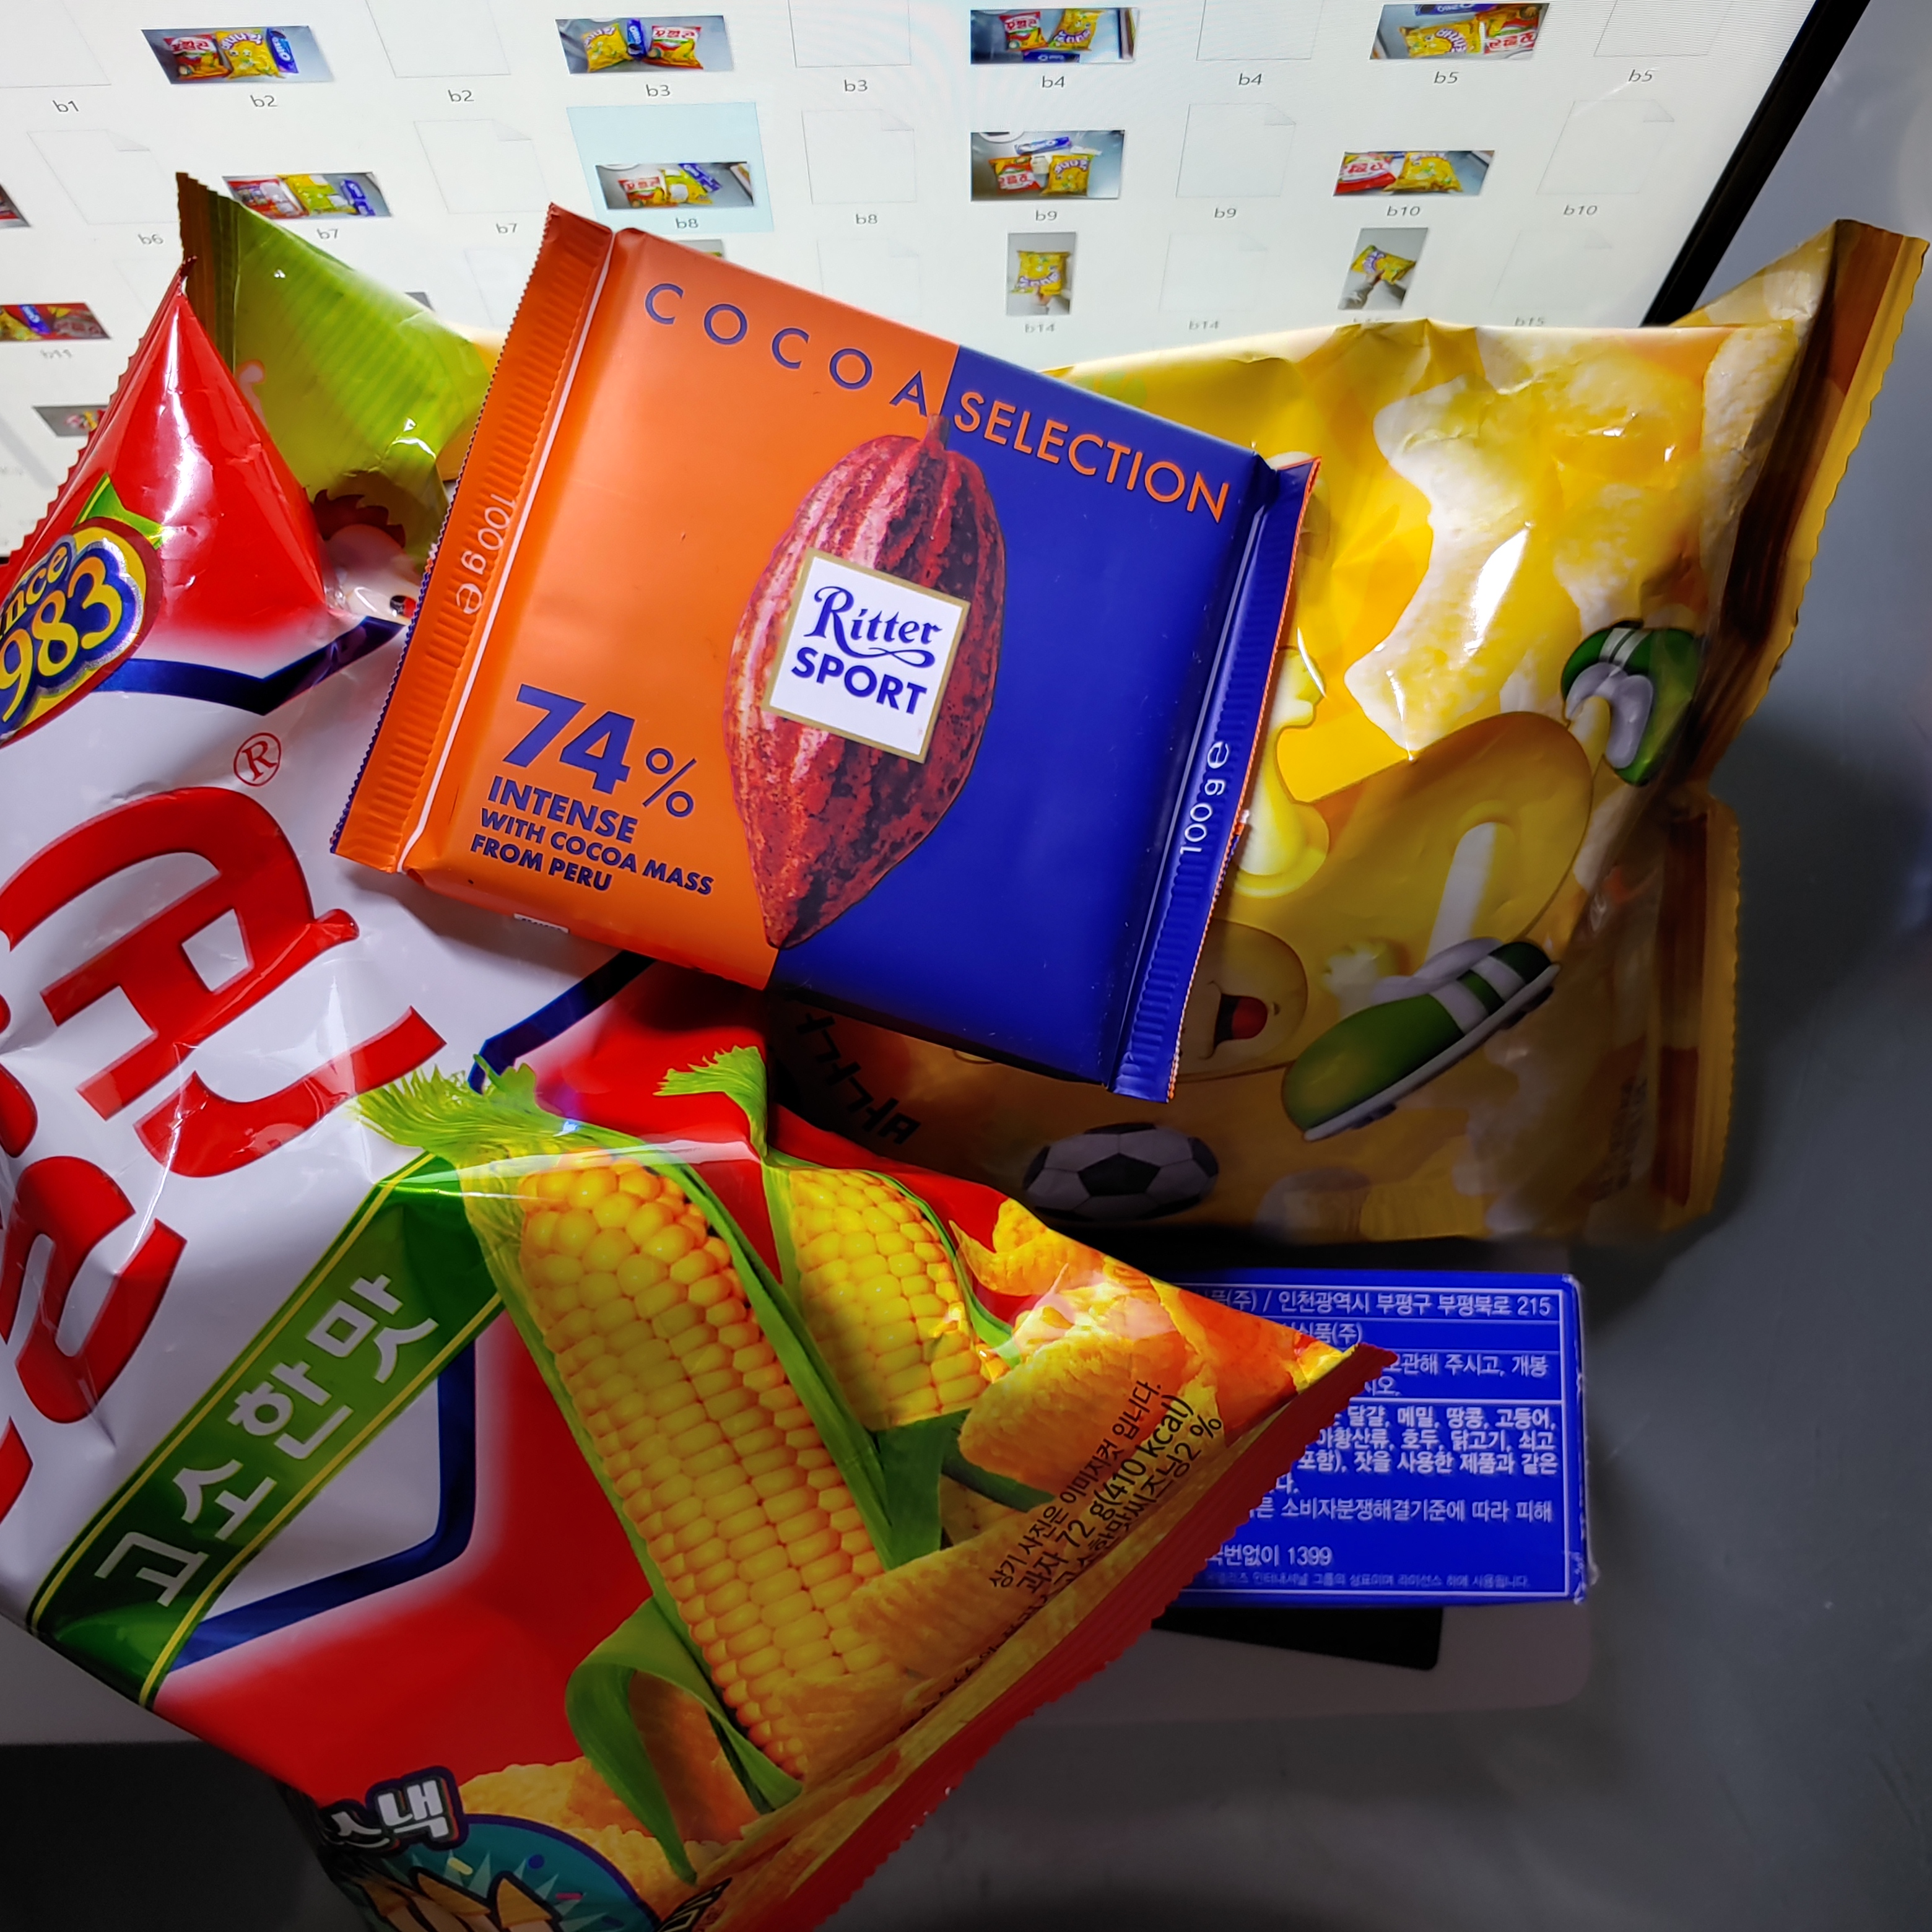banana: (1026, 248, 1881, 1334)
ggoggalcon: (7, 278, 821, 1925)
